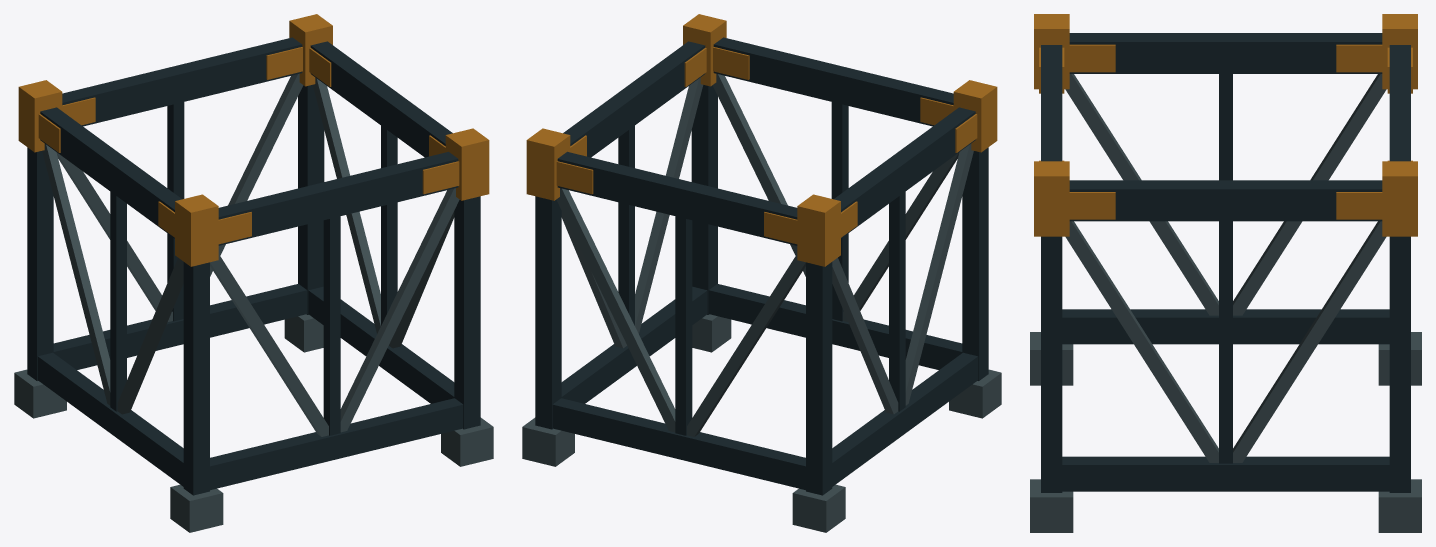
File: scaffold.glb
3 renders of one model, left to right at view 1: azimuth 30°, elevation 25°; view 2: azimuth 150°, elevation 25°; view 3: azimuth 270°, elevation 25°, orthographic. The views are drawn at different scales.
Visible parts, largest first — view 1: frame, fittings, safety; view 2: frame, fittings, safety; view 3: frame, fittings, safety.
Boxes of the visible parts, left/top/right/bottom form: frame: left=27, top=37, right=480, bottom=495; fittings: left=14, top=73, right=493, bottom=532; safety: left=18, top=14, right=489, bottom=266; frame: left=535, top=37, right=988, bottom=495; fittings: left=522, top=73, right=1001, bottom=532; safety: left=526, top=14, right=997, bottom=266; frame: left=1041, top=33, right=1410, bottom=492; fittings: left=1030, top=74, right=1421, bottom=532; safety: left=1034, top=14, right=1417, bottom=236.
Bounding box in the file's own units: 1 × 1 × 1.
